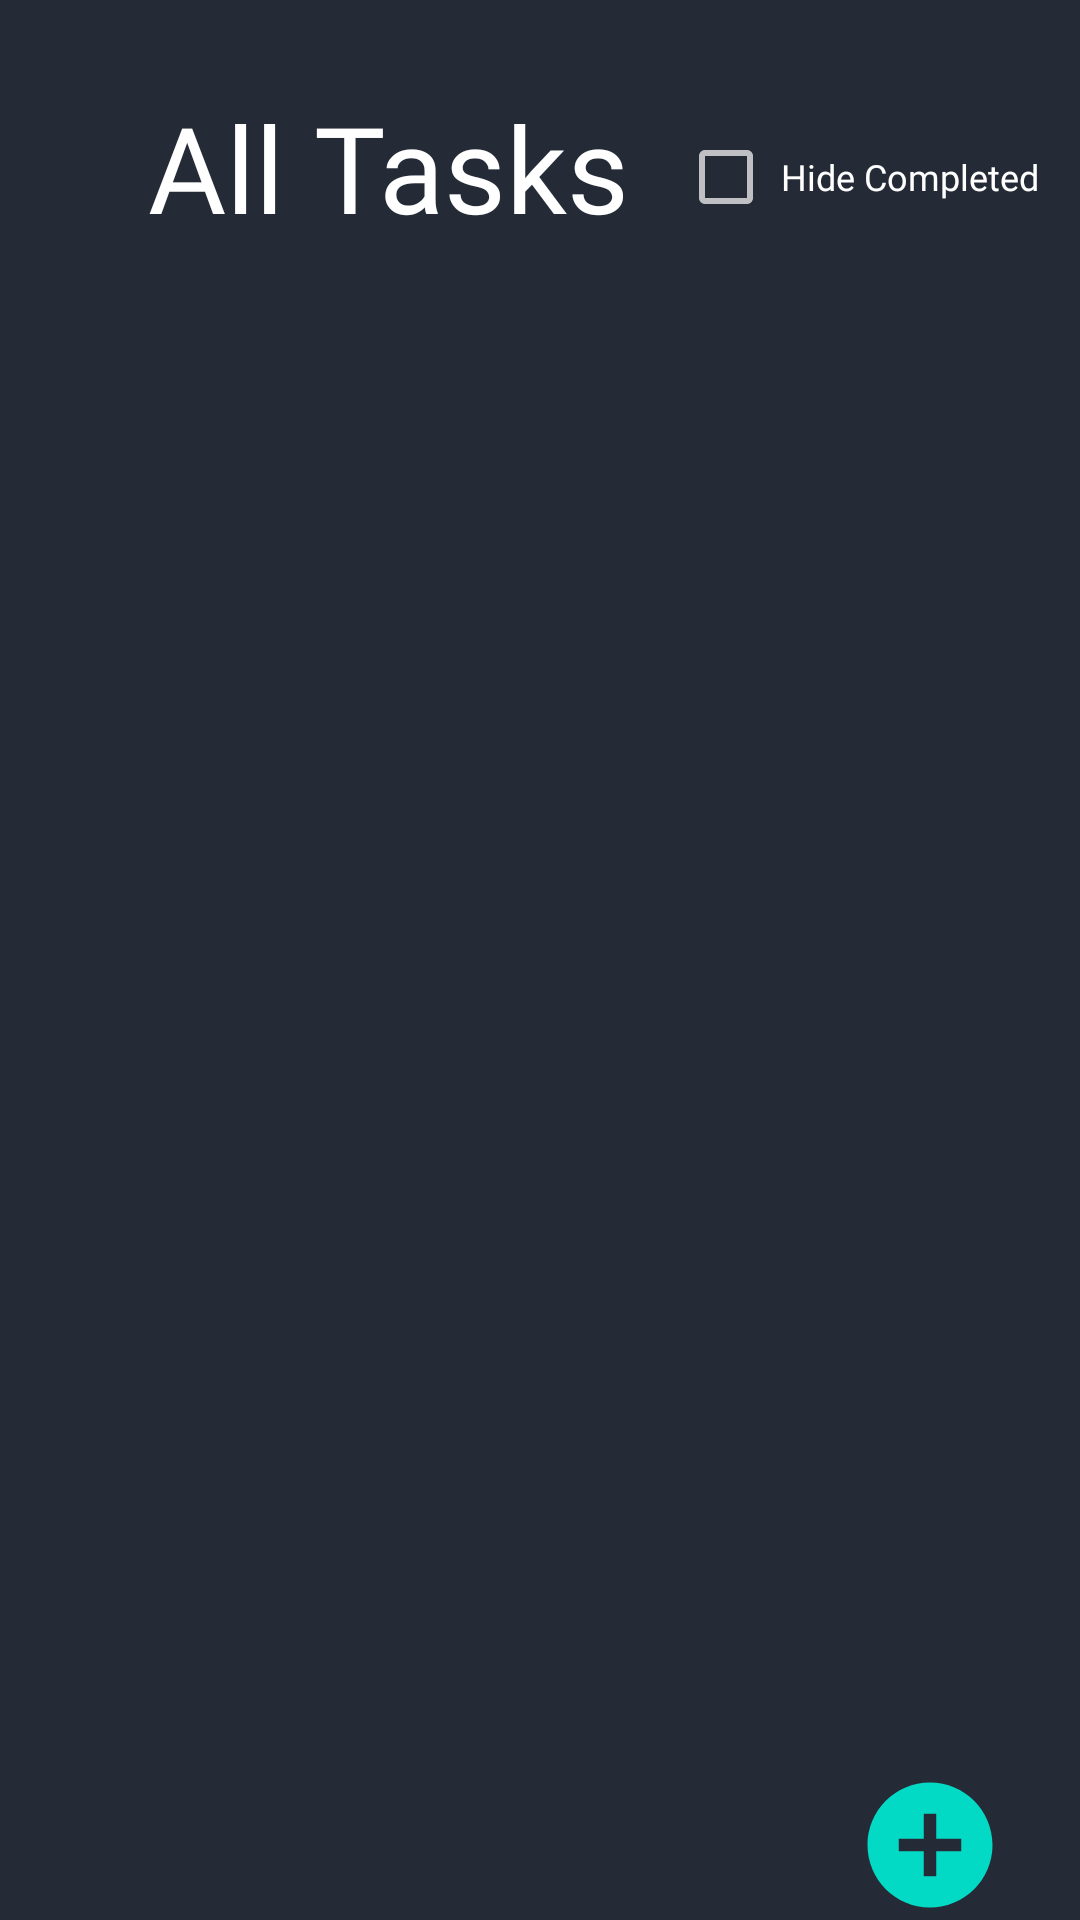

Named icons in this screenshot (1080px×1920px) and their bounding boxes, box=[x1, y1, x2, y2]:
add circle: box=[867, 1782, 993, 1908]
